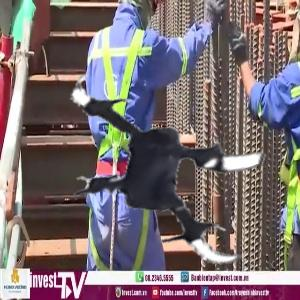drone: (52, 40, 298, 286)
